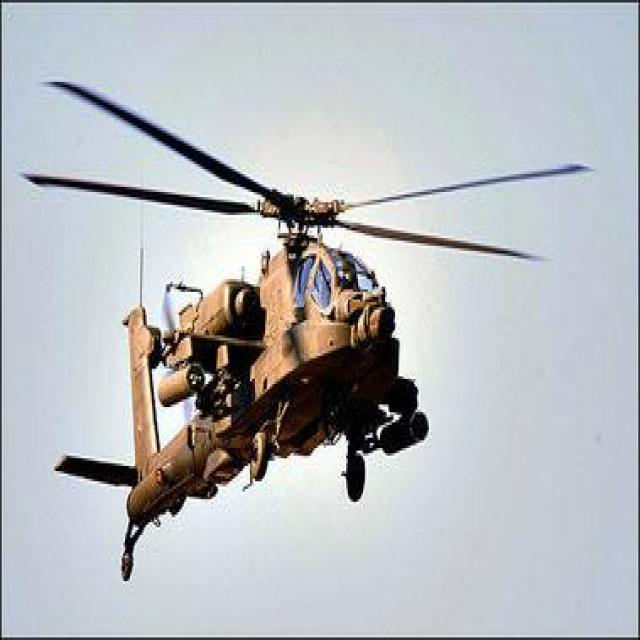MIL_HELO: (14, 70, 601, 594)
